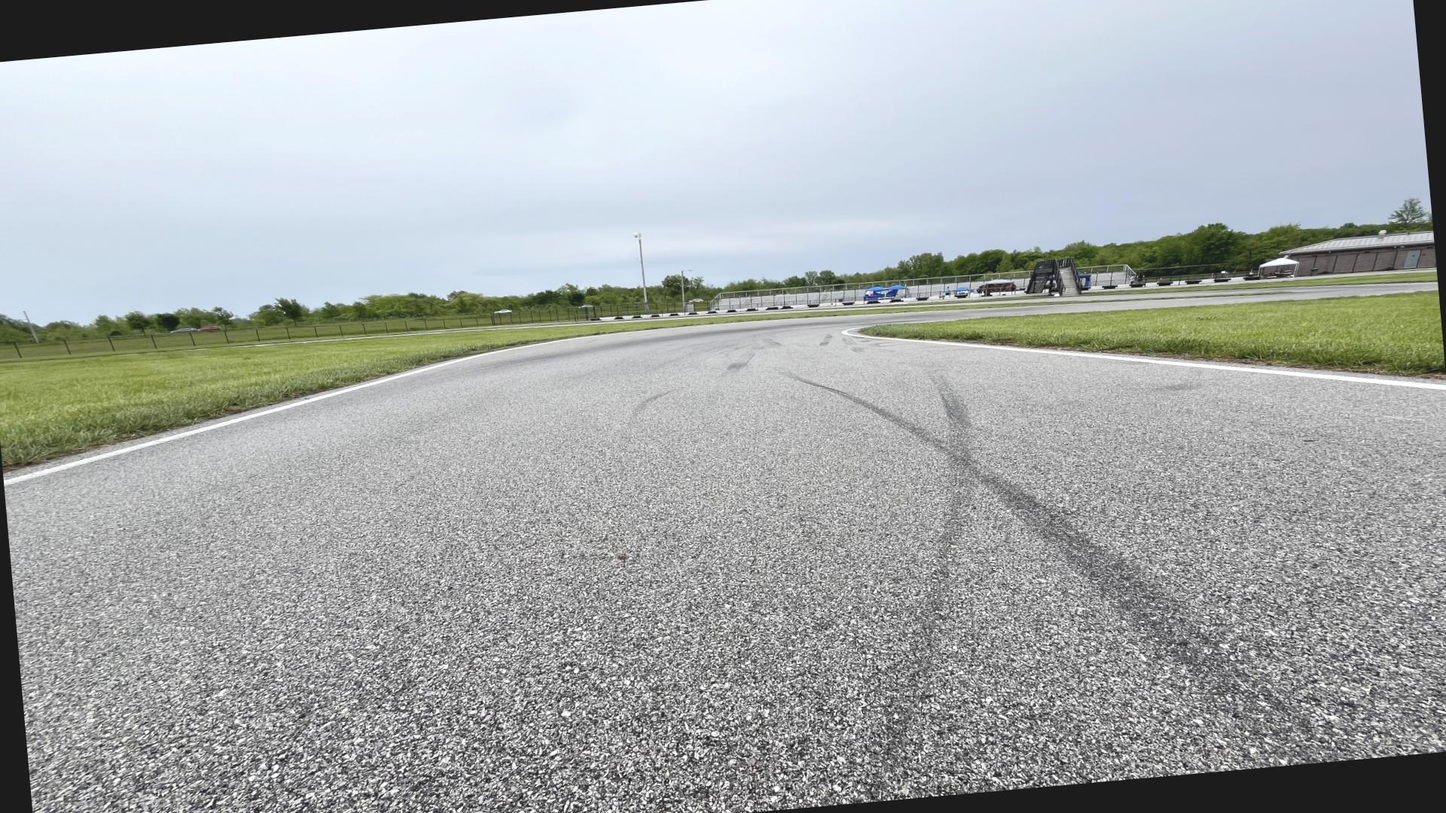white-line: (4, 297, 1237, 489), (840, 327, 1445, 391), (910, 320, 953, 323)
